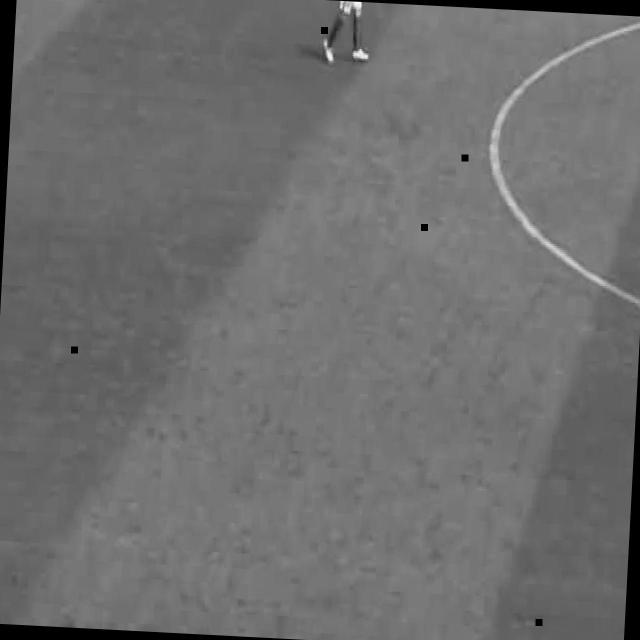player-white: (322, 0, 372, 64)
